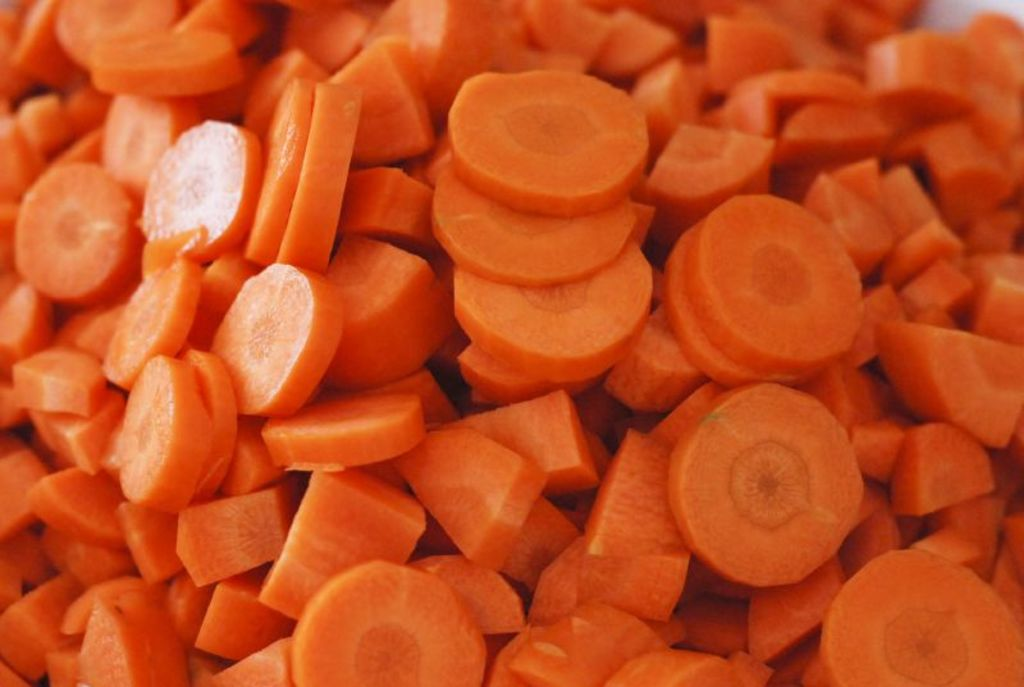Carrot: (0, 0, 1024, 687)
